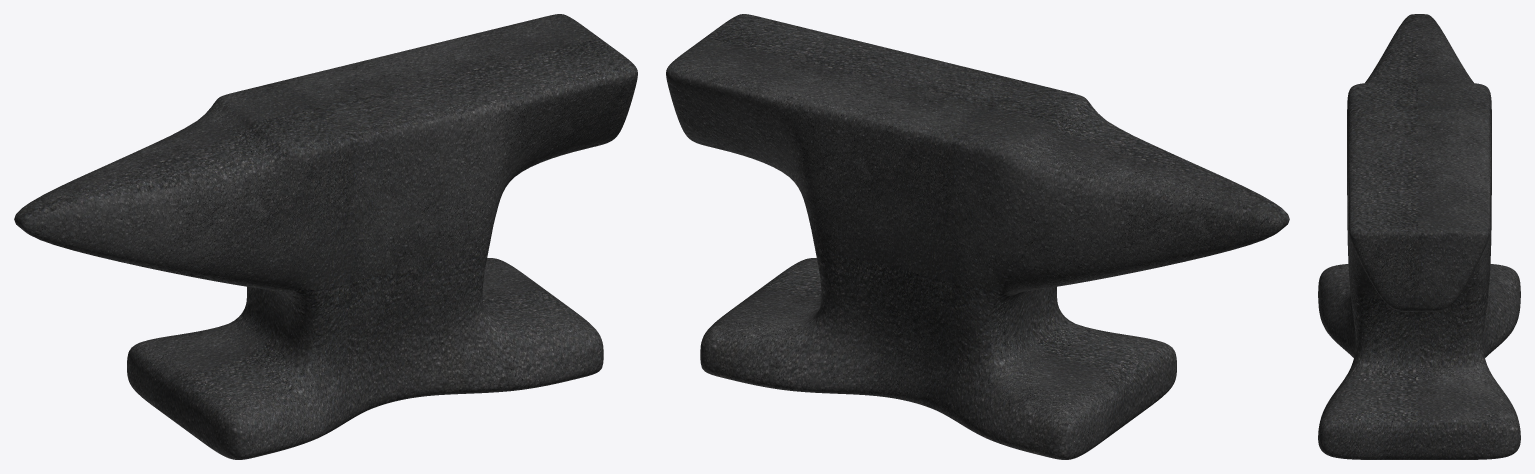
Rendered from Anvil.FBX.
3 views of the same model, side by side, from view 1: azimuth 30°, elevation 25°; view 2: azimuth 150°, elevation 25°; view 3: azimuth 270°, elevation 25° (orthographic). The views are drawn at different scales.
Visible parts, largest first — view 1: Anvil; view 2: Anvil; view 3: Anvil.
Boxes of the visible parts, <box> form: Anvil: <box>14,14,637,459</box>; Anvil: <box>666,14,1289,459</box>; Anvil: <box>1318,14,1520,459</box>.
Size of the model in its own units: 280 by 95.47 by 132.
1 material, 1 textured.
